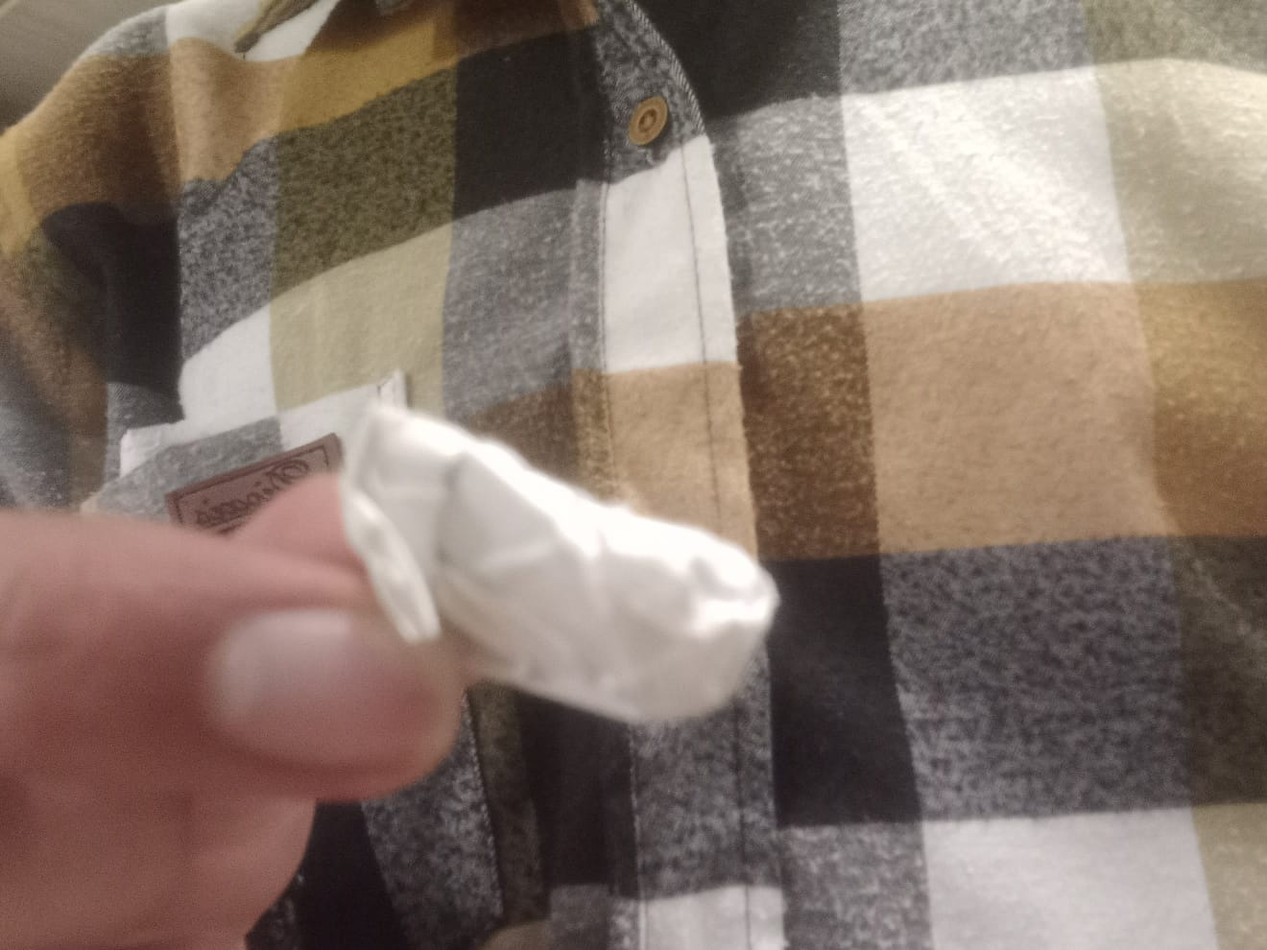Ordinario: (338, 399, 777, 725)
